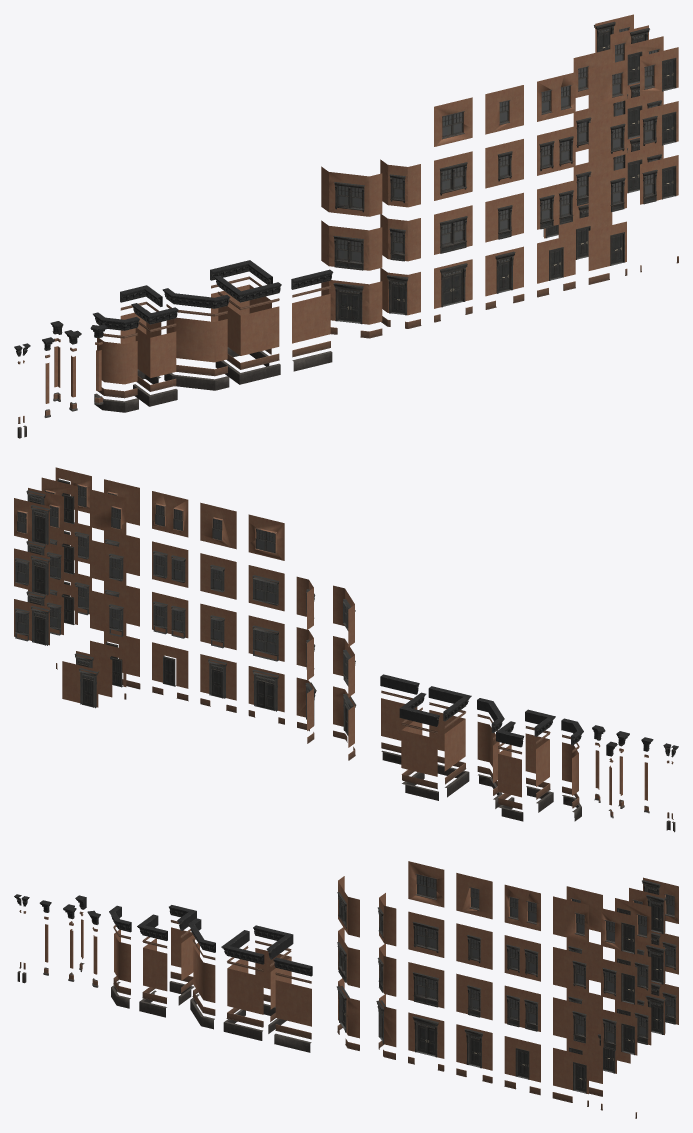
The model's file is modular_urban_apartments_facade.glb.
3 views of the same model, one above another, from view 1: azimuth 30°, elevation 25°; view 2: azimuth 150°, elevation 25°; view 3: azimuth 330°, elevation 25° (orthographic). The views are drawn at different scales.
Parts seen in each view (by area): view 1: wall_door_centered_large_01, door_angled_small_01, door_window_small_09, crown_standard_angled_large_01; view 2: wall_door_centered_large_01, door_angled_small_01, door_window_small_09, crown_standard_angled_large_01; view 3: wall_door_centered_large_01, door_angled_small_01, door_window_small_09, crown_standard_angled_large_01.
Part boxes in pixels (x1=…): wall_door_centered_large_01: x1=45, y1=14, x2=678, y2=403; door_angled_small_01: x1=333, y1=21, x2=676, y2=324; door_window_small_09: x1=17, y1=27, x2=678, y2=438; crown_standard_angled_large_01: x1=14, y1=260, x2=333, y2=356; wall_door_centered_large_01: x1=14, y1=467, x2=647, y2=805; door_angled_small_01: x1=14, y1=479, x2=356, y2=735; door_window_small_09: x1=17, y1=484, x2=675, y2=832; crown_standard_angled_large_01: x1=380, y1=674, x2=678, y2=757; wall_door_centered_large_01: x1=45, y1=861, x2=678, y2=1094; door_angled_small_01: x1=336, y1=875, x2=676, y2=1093; door_window_small_09: x1=17, y1=874, x2=674, y2=1118; crown_standard_angled_large_01: x1=14, y1=894, x2=312, y2=976.
Size of the model in its own units: 51.53 by 17 by 6.66.
Materials: 5 (5 with a texture image).
